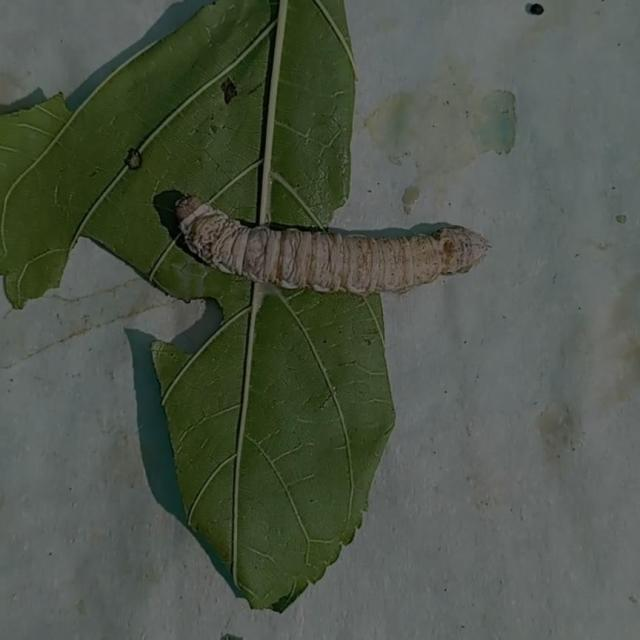Grasserie: (161, 182, 495, 304)
